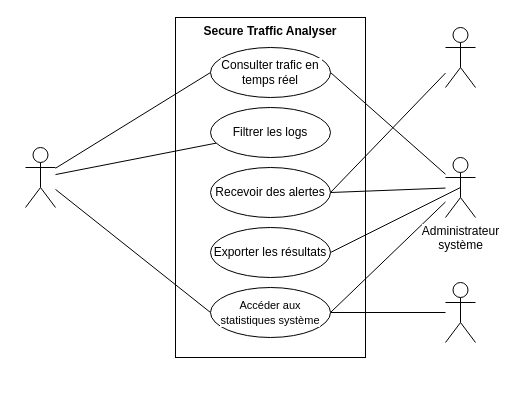
This 519x396 diagram has some shape labels left out. Each missing label, with the box of its shape:
Analyste réseau: (24, 146, 56, 208)
Responsable sécurité: (444, 26, 476, 88)
Utilisateur standard: (444, 282, 476, 342)
